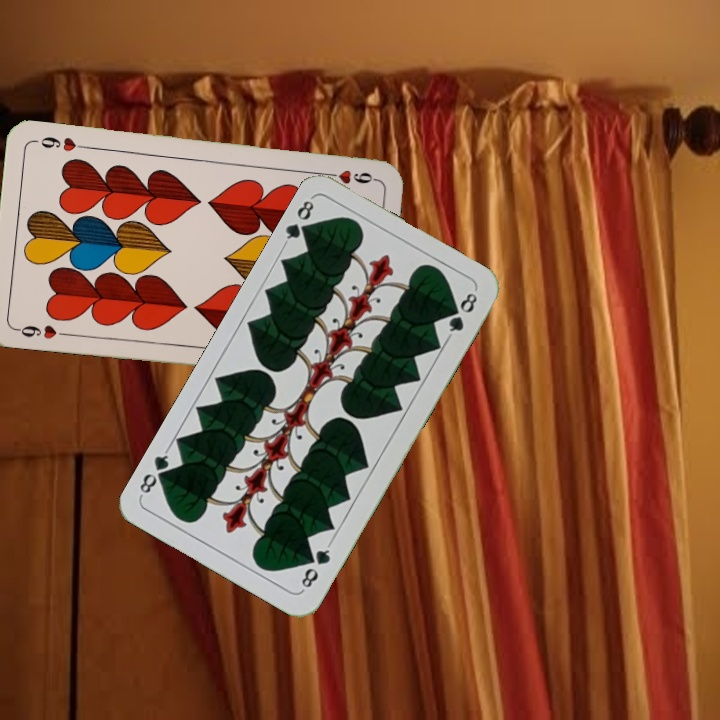G8: (279, 194, 317, 248), (297, 539, 333, 593)
H9: (319, 165, 378, 187), (11, 321, 71, 342)
